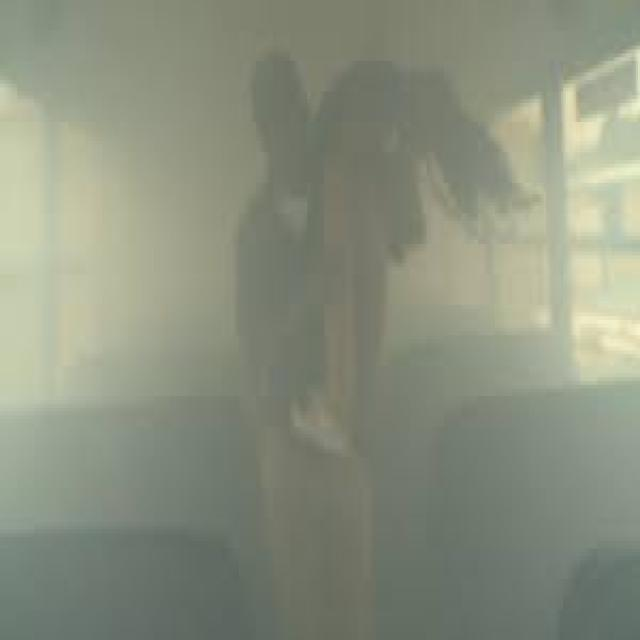Smoke: (0, 78, 243, 616), (418, 281, 640, 588), (487, 15, 640, 144)
